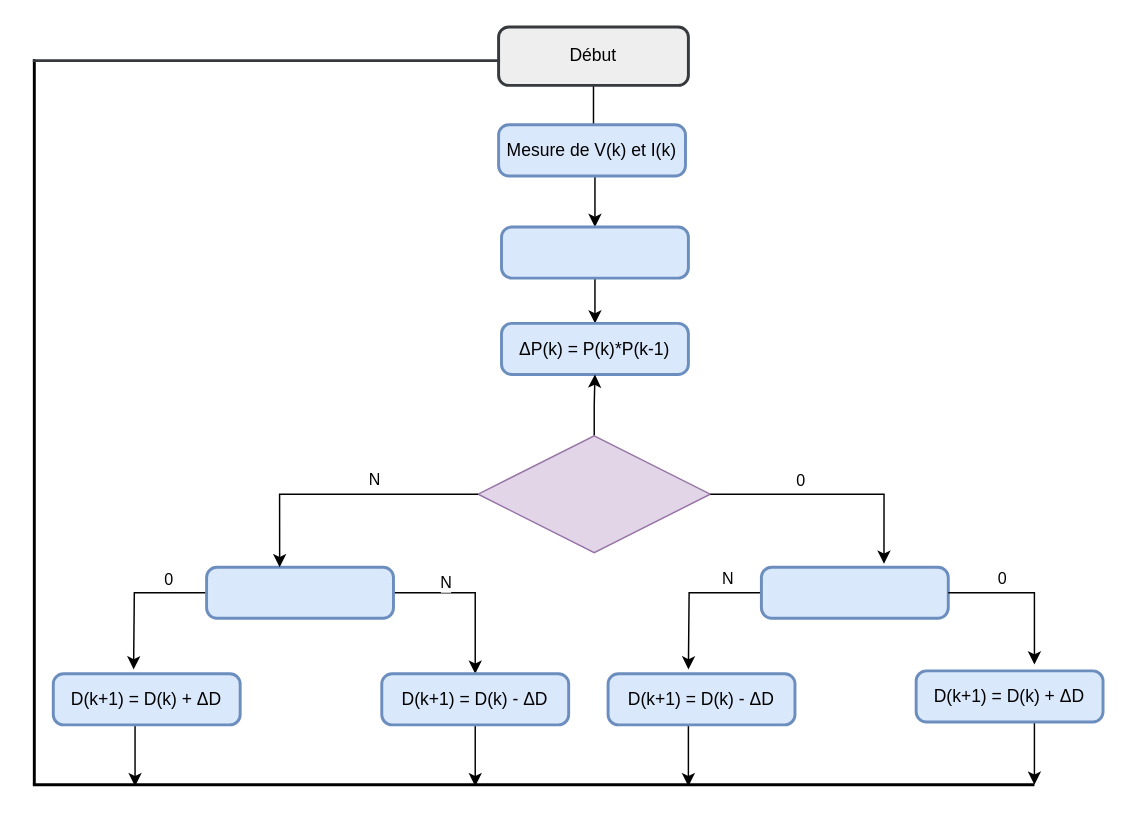
The diagram is 1129 pixels wide and 823 high, and some of its shapes have lost their labels. The centre of each missing label's shape, as x and y in pixels:
"D(k-1) < D(k)" goes at (x=854, y=592).
"D(k-1) > D(k)" goes at (x=299, y=592).
"P(k) = V(k)*I(k)" goes at (x=594, y=252).
"ΔP(k) > 0" goes at (x=593, y=493).
